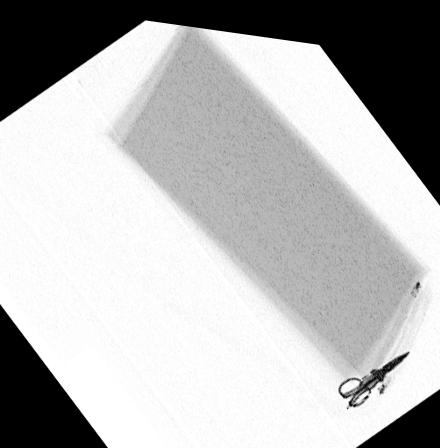Scissors: (334, 337, 410, 403)
